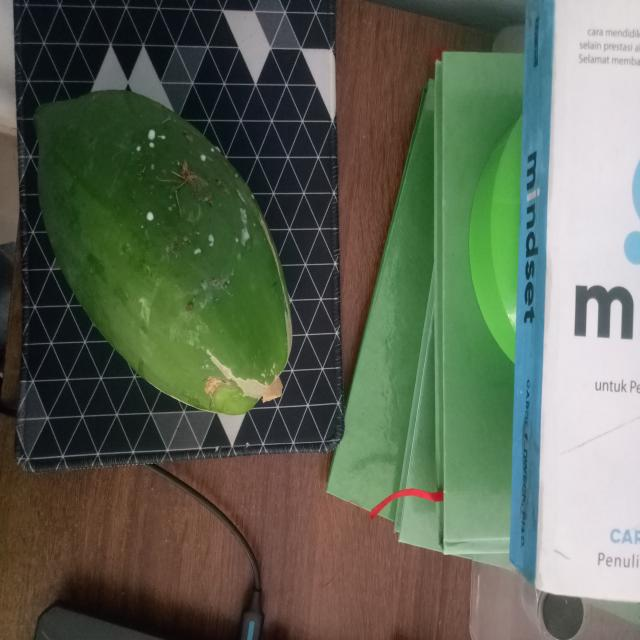Pepaya unrippen: (24, 86, 304, 433)
